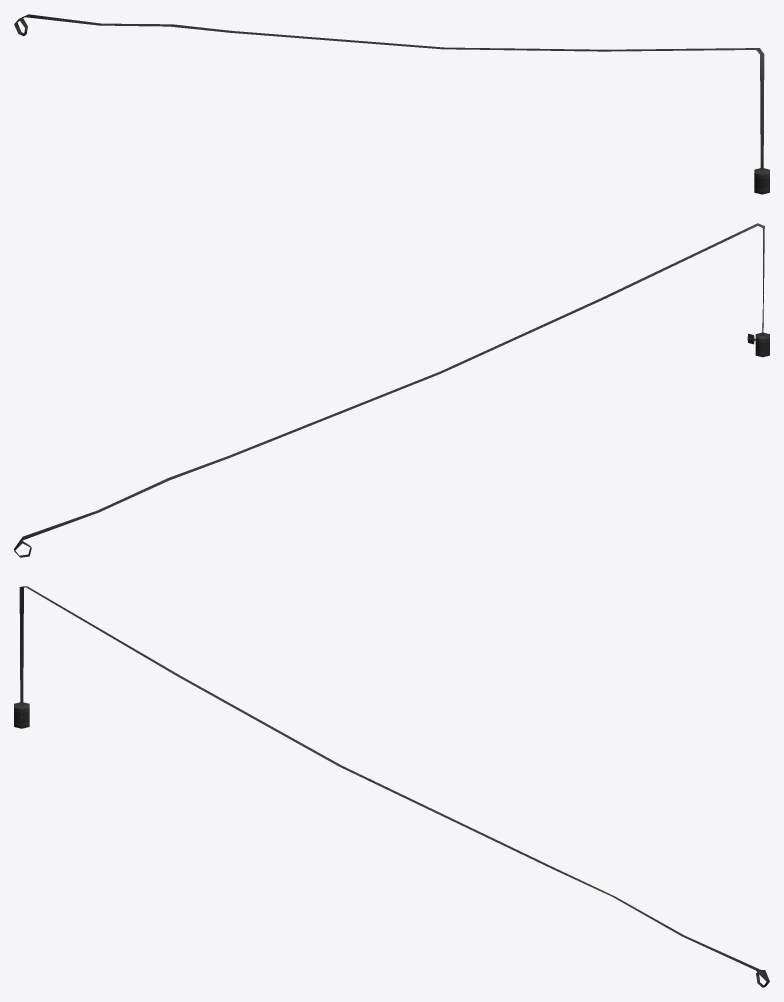
File: jsf_4P_Light_s01_a.fbx
The picture shows the model from 3 angles, top to bottom: view 1: azimuth 90°, elevation 25°; view 2: azimuth 150°, elevation 25°; view 3: azimuth 270°, elevation 25°; orthographic projection. The views are drawn at different scales.
Parts seen in each view (by area): view 1: jsf_4P_Light_s01_a; view 2: jsf_4P_Light_s01_a; view 3: jsf_4P_Light_s01_a.
Boxes of the visible parts, x1,y1,x2,y2 form: jsf_4P_Light_s01_a: (14, 14, 769, 194); jsf_4P_Light_s01_a: (14, 223, 769, 557); jsf_4P_Light_s01_a: (14, 586, 769, 987).
Bounding box in the file's own units: 93.96 × 39.15 × 139.
